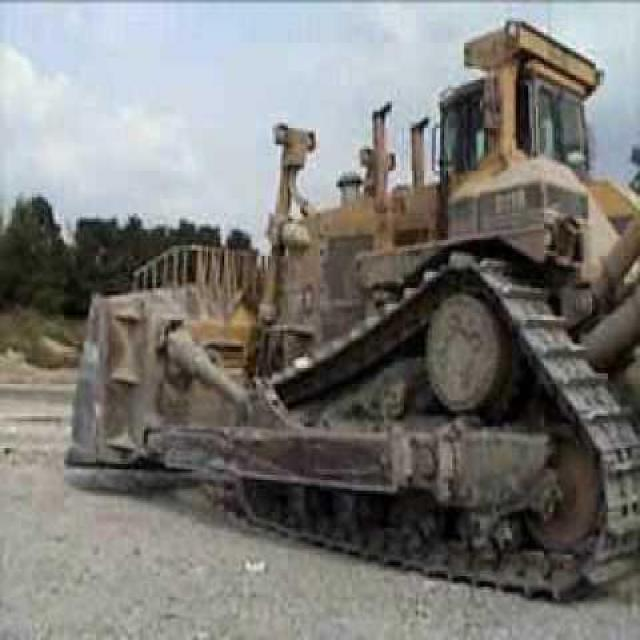Bulldozer: (66, 10, 638, 602)
